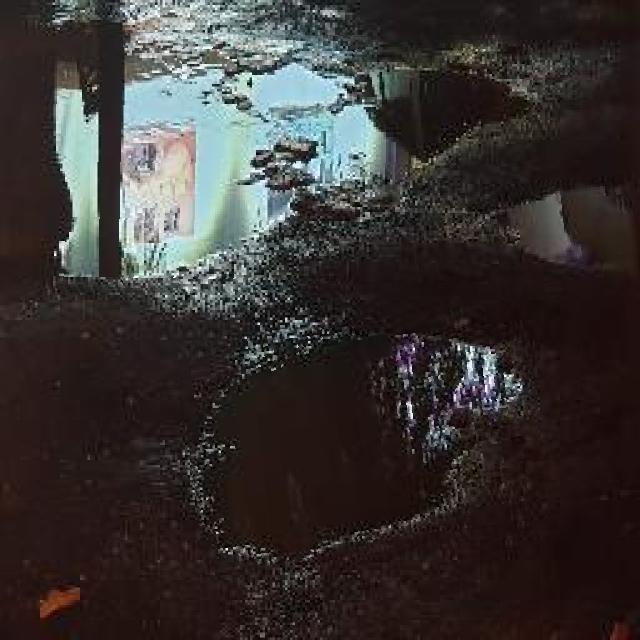puddle: (1, 32, 532, 296), (184, 311, 547, 564), (497, 177, 640, 298)
